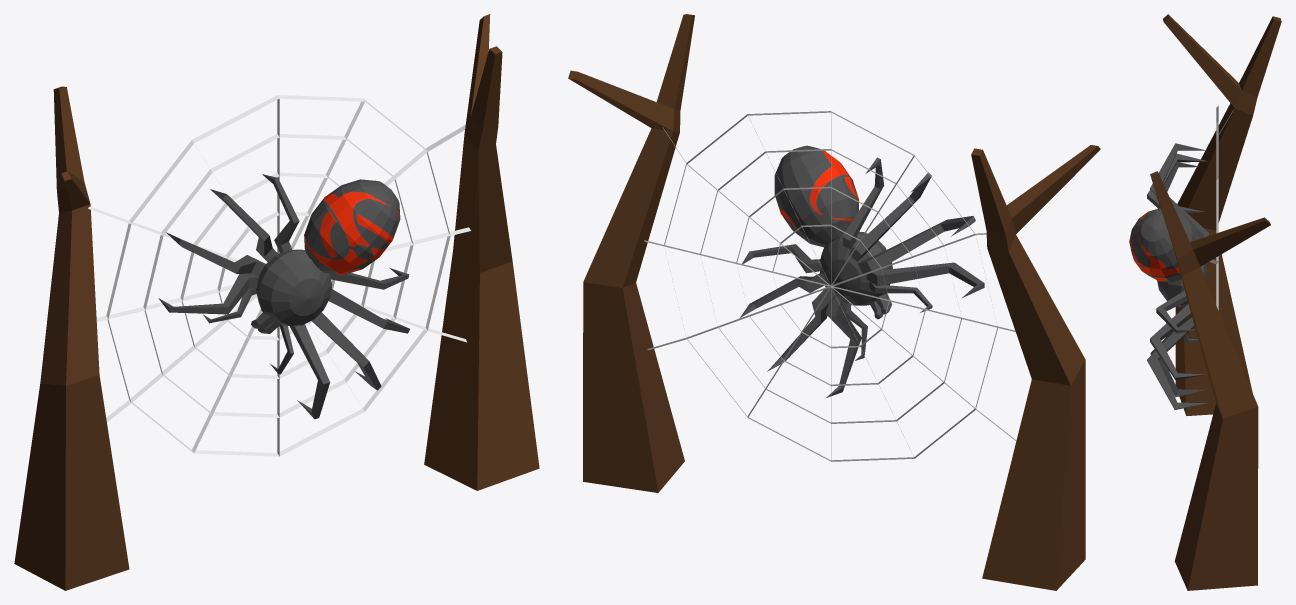
File: Spider.fbx
The picture shows the model from 3 angles, left to right: view 1: azimuth 30°, elevation 25°; view 2: azimuth 150°, elevation 25°; view 3: azimuth 270°, elevation 25°; orthographic projection. The views are drawn at different scales.
Parts seen in each view (by area): view 1: Cube, Leg, Circle; view 2: Cube, Leg, Circle; view 3: Cube, Leg, Circle.
Part boxes in pixels (left/top/right/bottom): Cube: left=14, top=14, right=539, bottom=590; Leg: left=158, top=174, right=409, bottom=419; Circle: left=88, top=95, right=470, bottom=456; Cube: left=568, top=14, right=1100, bottom=590; Leg: left=740, top=145, right=984, bottom=397; Circle: left=644, top=111, right=1016, bottom=461; Cube: left=1150, top=14, right=1281, bottom=590; Leg: left=1129, top=143, right=1210, bottom=409; Circle: left=1209, top=105, right=1233, bottom=310.
Size of the model in its own units: 1386 by 1209 by 427.
